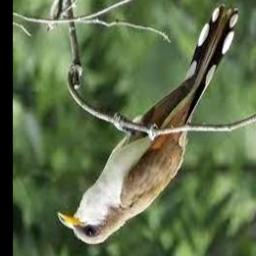Cuckoo: (59, 5, 239, 244)
